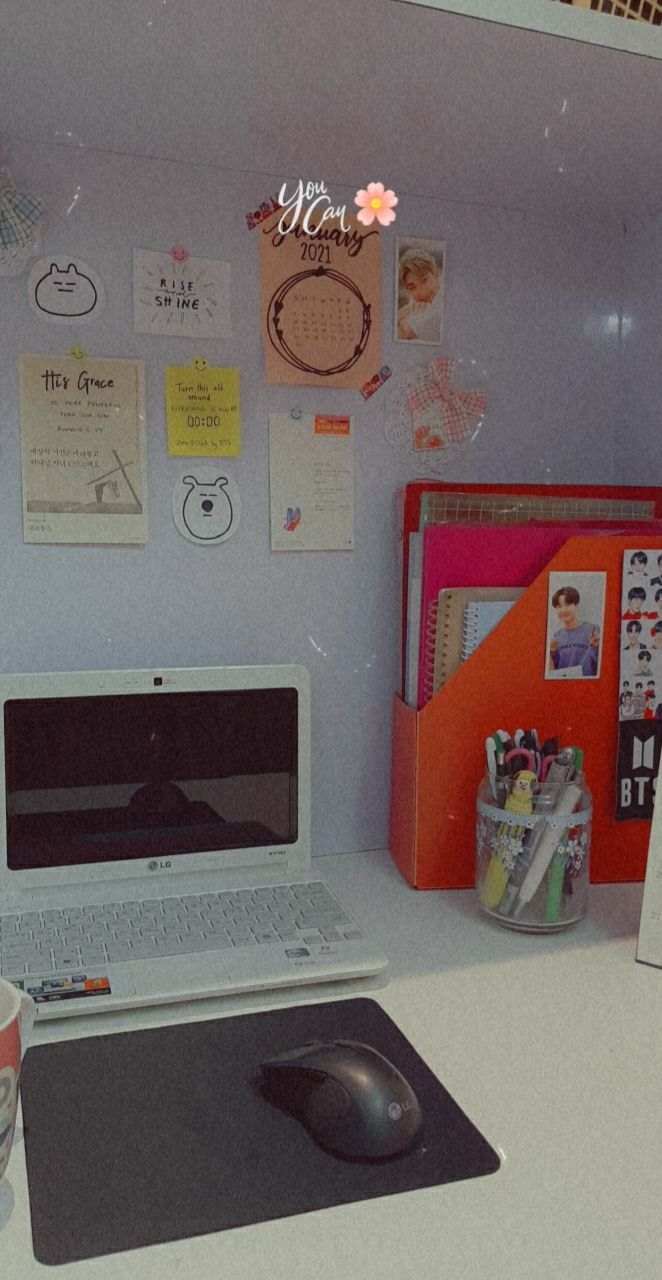not a gesture sign: (337, 468, 637, 1051)
